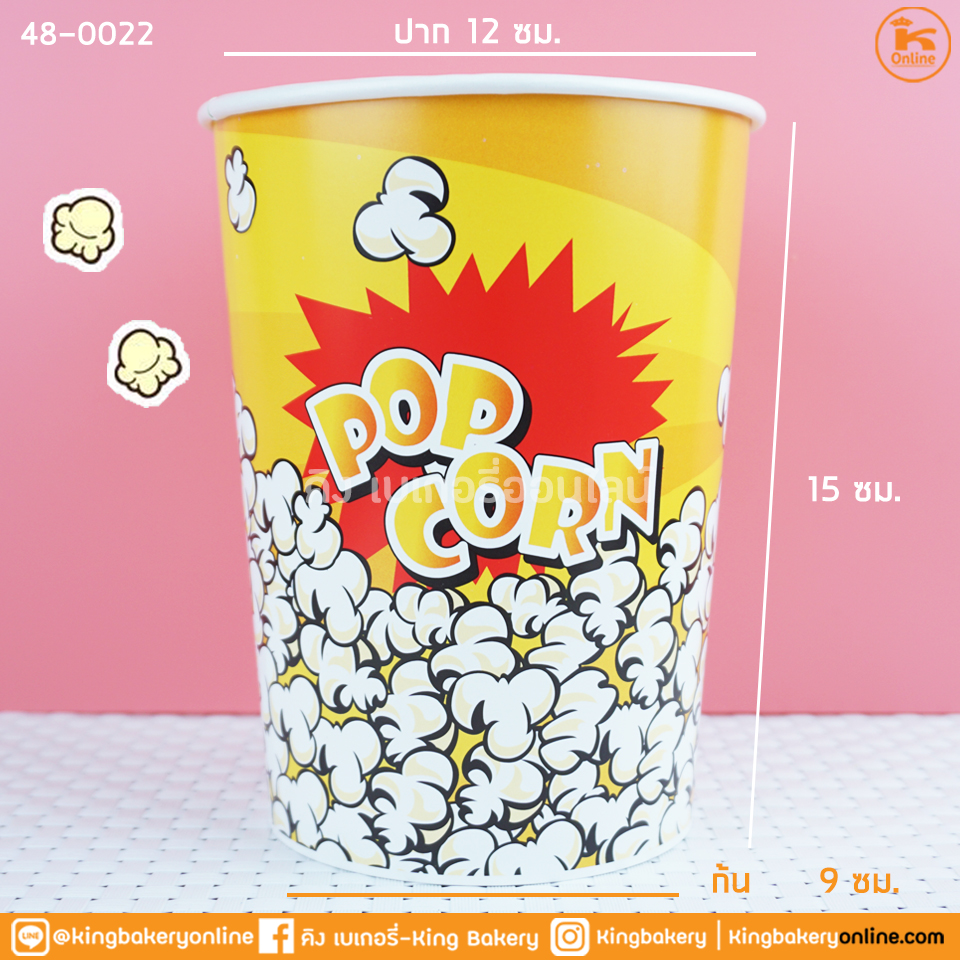PaperCup: (194, 74, 768, 894)
